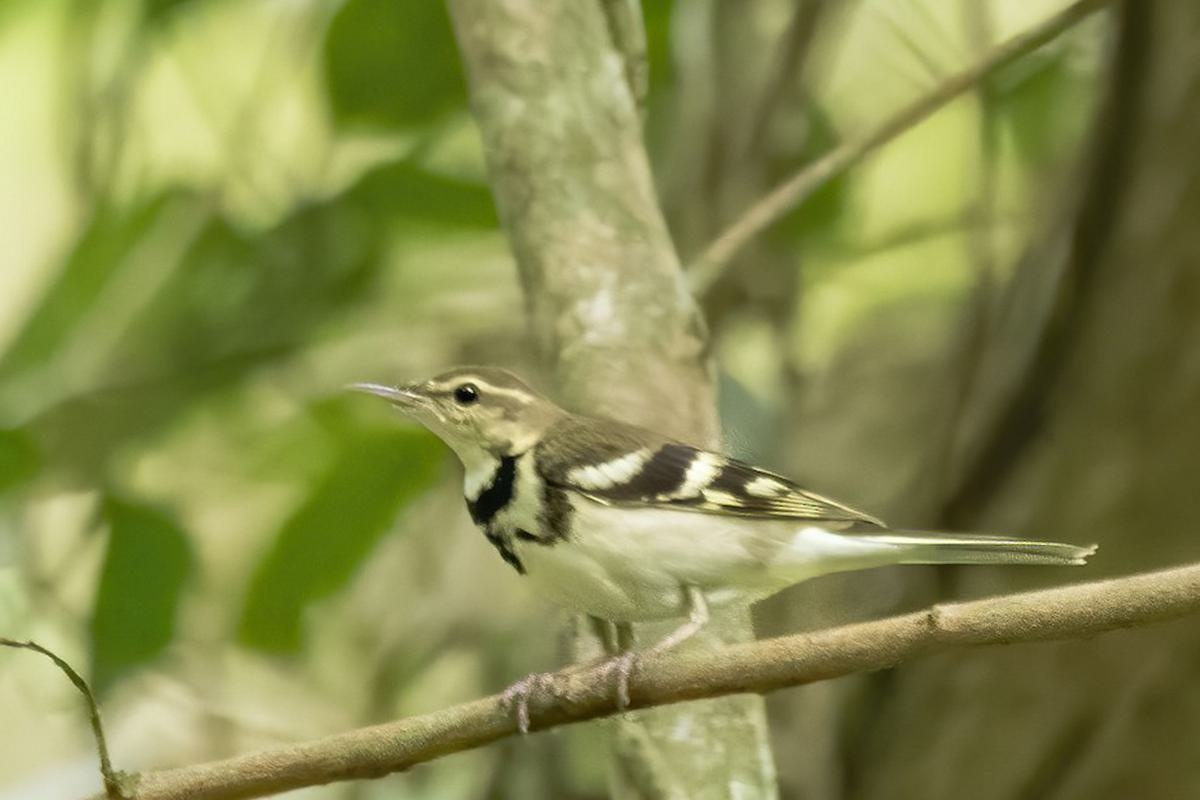wagtail: (320, 308, 944, 663)
